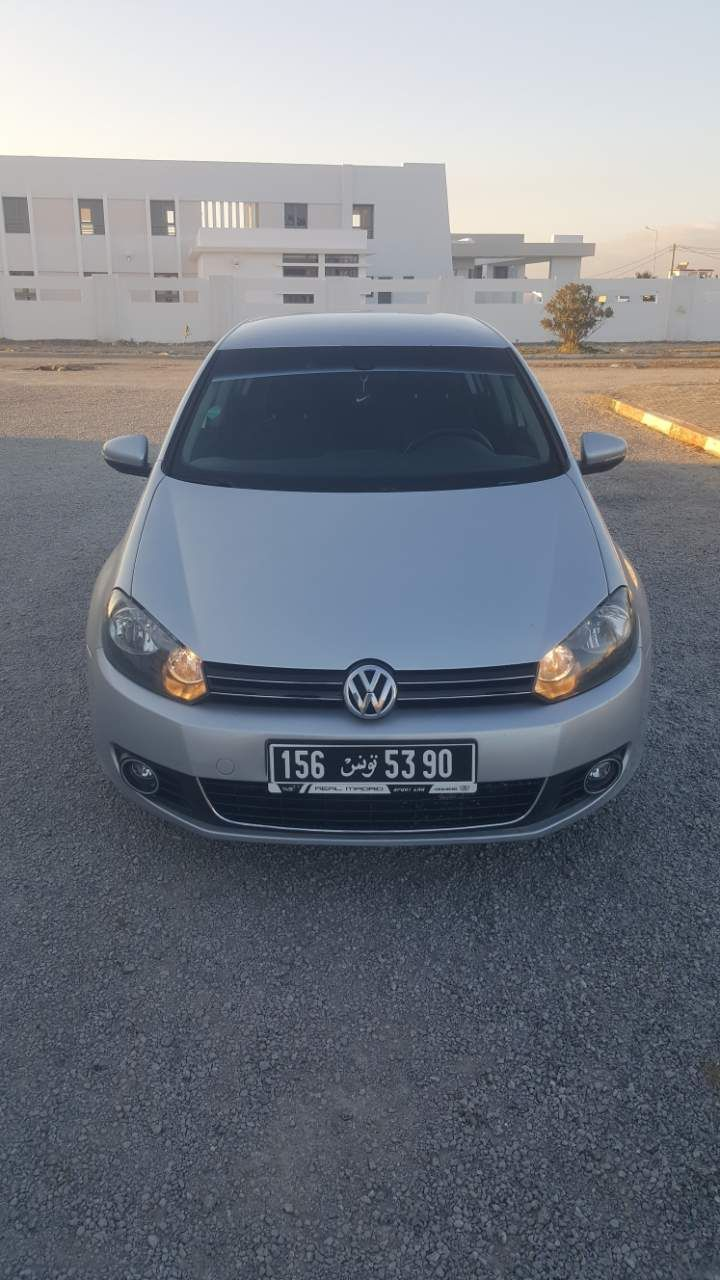LP: (267, 742, 477, 786)
